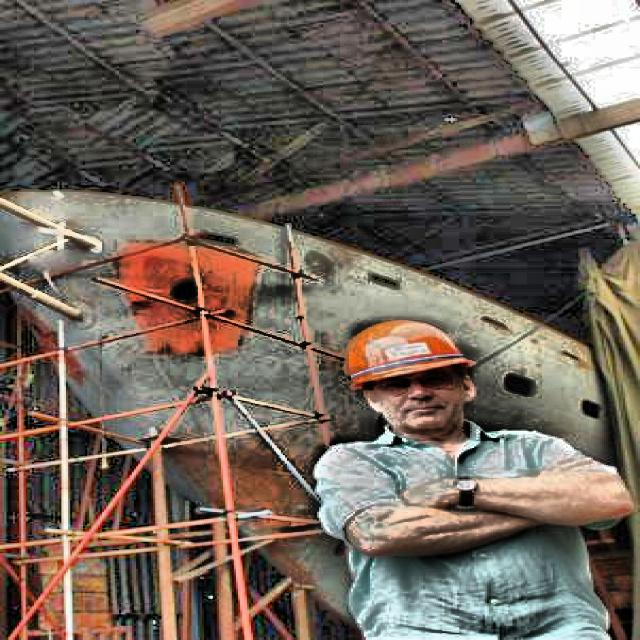helmet: (327, 313, 489, 445)
